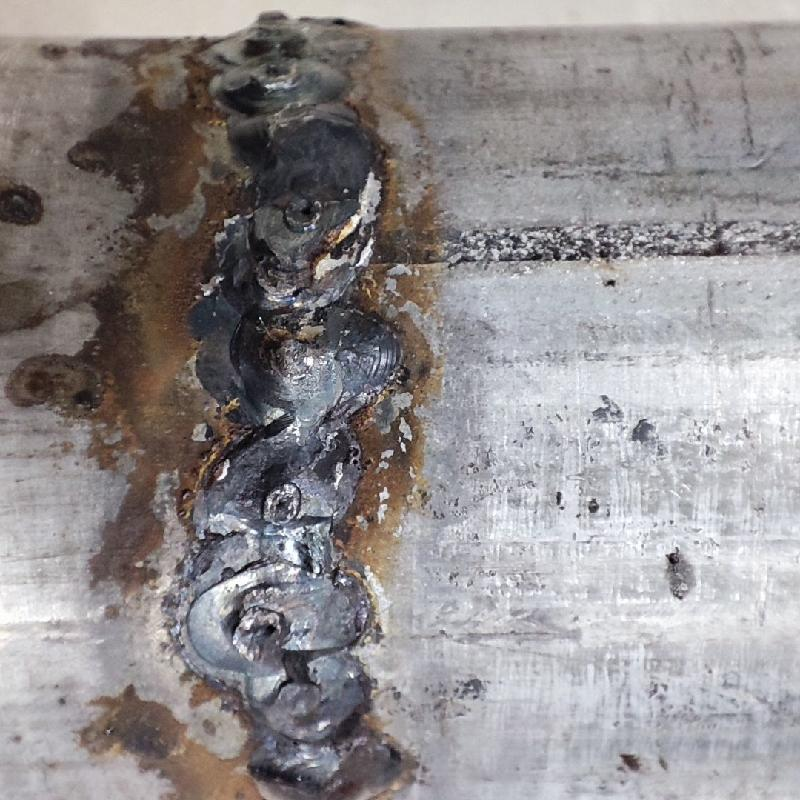Surface_pores: (248, 610, 292, 650), (287, 194, 328, 230), (268, 490, 293, 519)
wrong_size: (189, 7, 408, 799)
